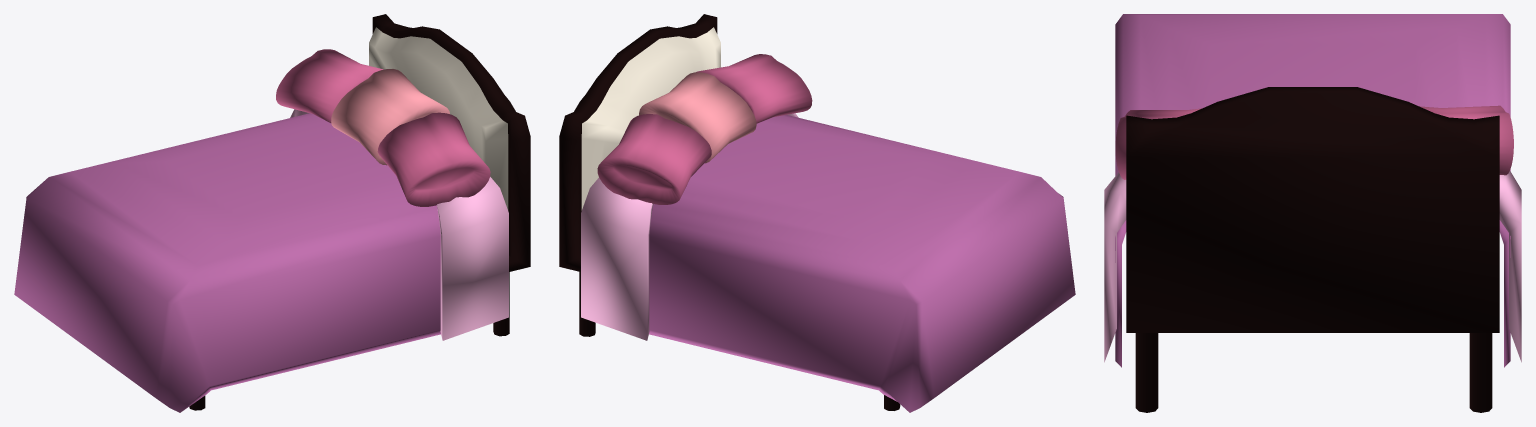
The model's file is bed.fbx.
3 renders of one model, left to right at view 1: azimuth 30°, elevation 25°; view 2: azimuth 150°, elevation 25°; view 3: azimuth 270°, elevation 25°, orthographic. The views are drawn at different scales.
Parts seen in each view (by area): view 1: Plane; view 2: Plane; view 3: Plane.
Boxes of the visible parts, x1,y1,x2,y2 form: Plane: [14, 14, 530, 412]; Plane: [559, 14, 1075, 412]; Plane: [1104, 14, 1521, 412].
Size of the model in its own units: 253 by 156 by 181.
